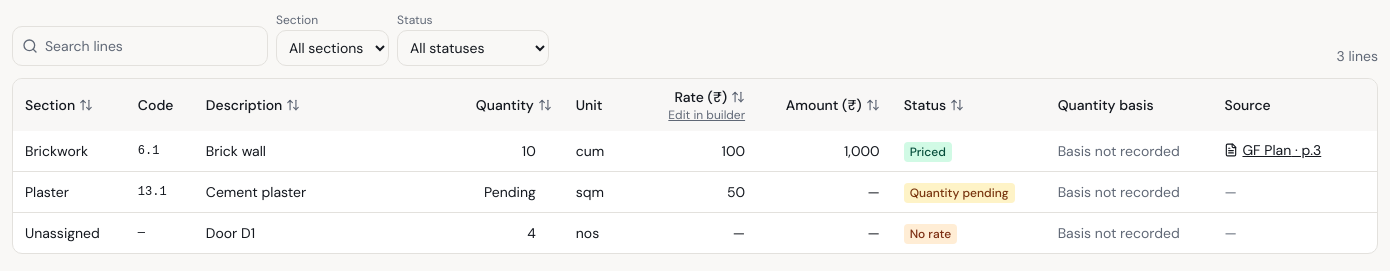
Scenario: BoqTable — search, filters, sort › says when no line matches
Type "zzz" into the search field named "Search BOQ lines" at coordinates (140, 46), box [12,26,268,66]
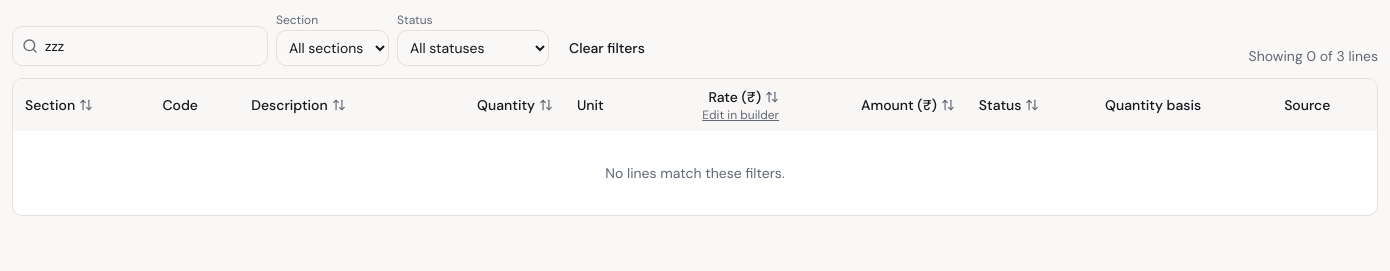
Result: the text "No lines match these filters." is shown at [13,131,1377,215]
